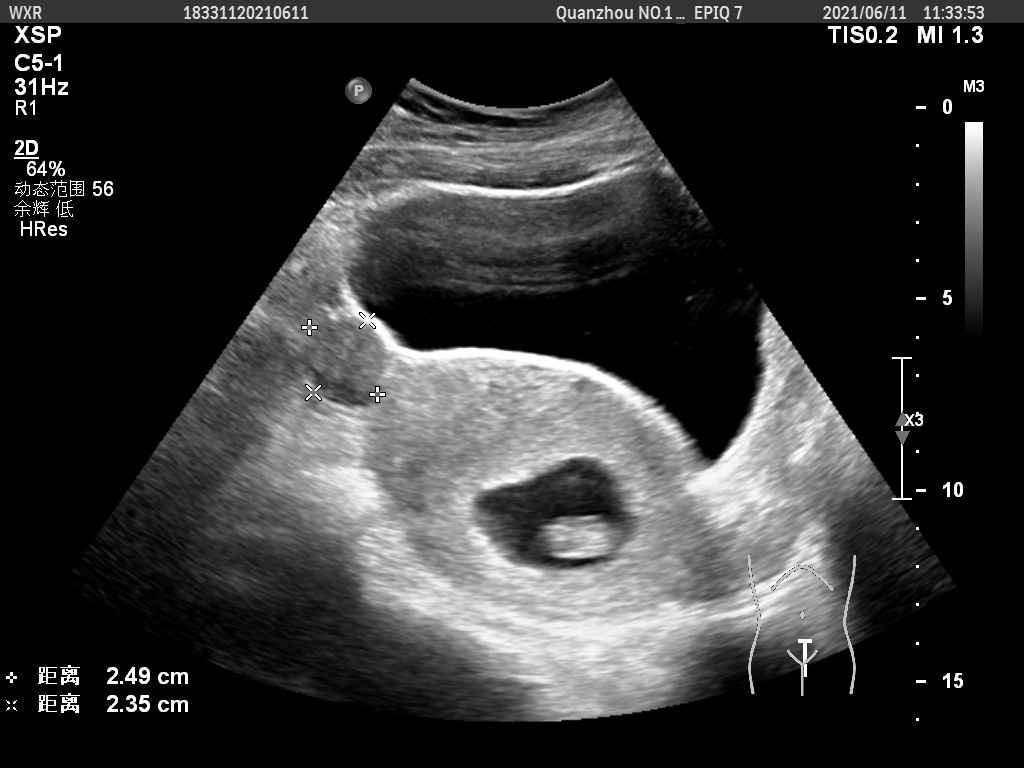肌瘤: (307, 321, 387, 400)
